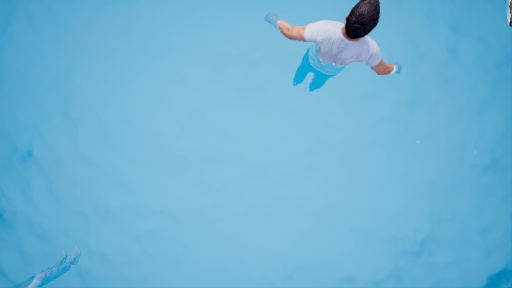person: (259, 1, 402, 92)
